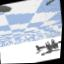drone: (34, 38, 62, 56)
